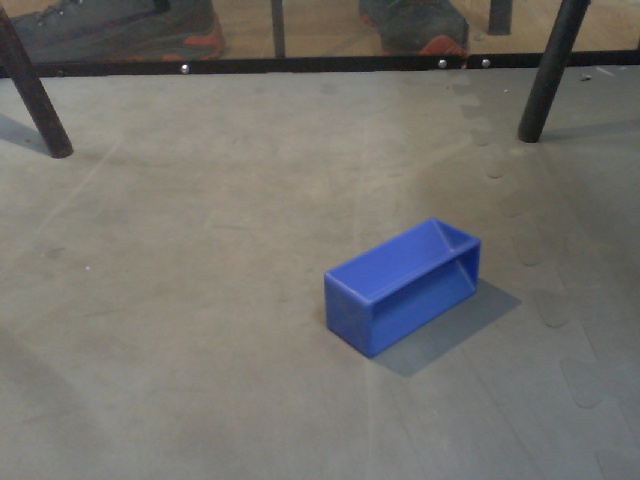BlueSample: (321, 218, 484, 361)
